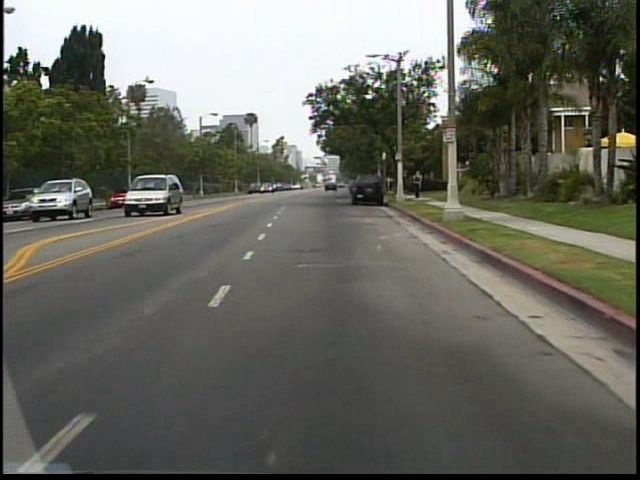person: (411, 169, 426, 202), (414, 172, 420, 202)
